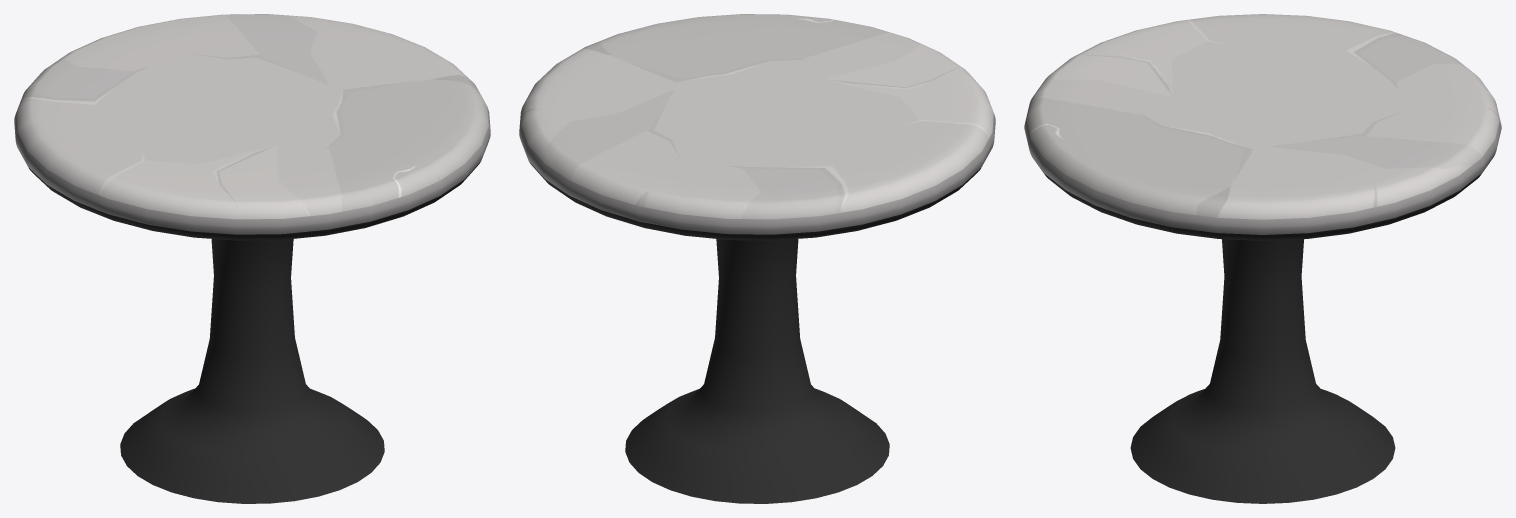
Rendered from ShoeTable2.fbx.
3 renders of one model, left to right at view 1: azimuth 30°, elevation 25°; view 2: azimuth 150°, elevation 25°; view 3: azimuth 270°, elevation 25°, orthographic.
Visible parts, largest first — view 1: pCylinder5; view 2: pCylinder5; view 3: pCylinder5.
Part boxes in pixels (x1,y1,x2,y2): pCylinder5: [14, 14, 490, 503]; pCylinder5: [519, 14, 995, 503]; pCylinder5: [1024, 14, 1501, 503].
Size of the model in its own units: 3.89 by 3.07 by 3.89.
Materials: 1 (1 with a texture image).
